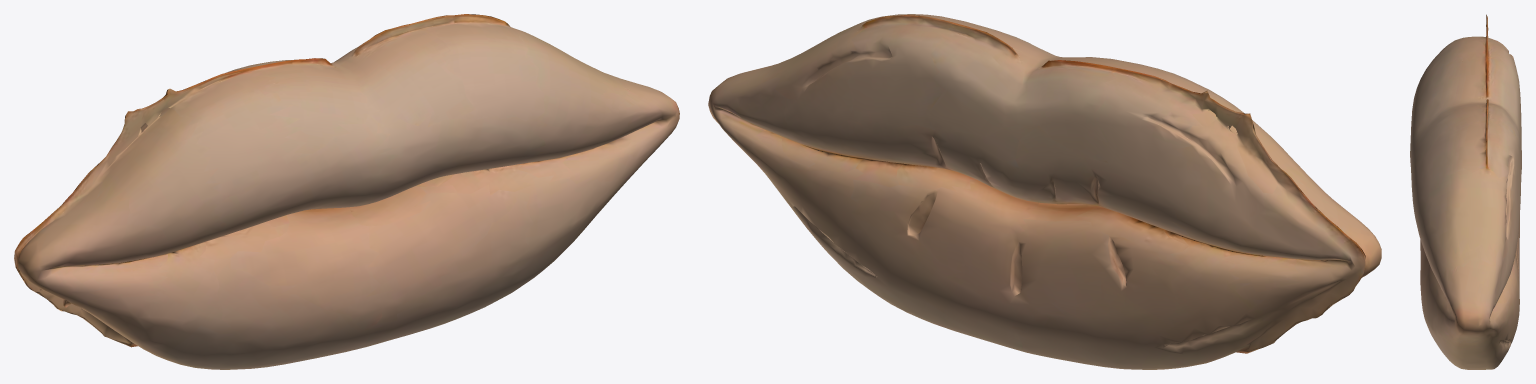
Rendered from lips.glb.
The picture shows the model from 3 angles, left to right: view 1: azimuth 30°, elevation 25°; view 2: azimuth 150°, elevation 25°; view 3: azimuth 270°, elevation 25°; orthographic projection. The views are drawn at different scales.
Visible parts, largest first — view 1: tripo_node_af59db3c-72a1-41fd-976b-40b63973249c; view 2: tripo_node_af59db3c-72a1-41fd-976b-40b63973249c; view 3: tripo_node_af59db3c-72a1-41fd-976b-40b63973249c.
Boxes of the visible parts, x1,y1,x2,y2 form: tripo_node_af59db3c-72a1-41fd-976b-40b63973249c: (14,14,679,369); tripo_node_af59db3c-72a1-41fd-976b-40b63973249c: (708,14,1381,369); tripo_node_af59db3c-72a1-41fd-976b-40b63973249c: (1410,14,1521,369).
Size of the model in its own units: 1 by 0.4425 by 0.1841.
1 material, 1 textured.
